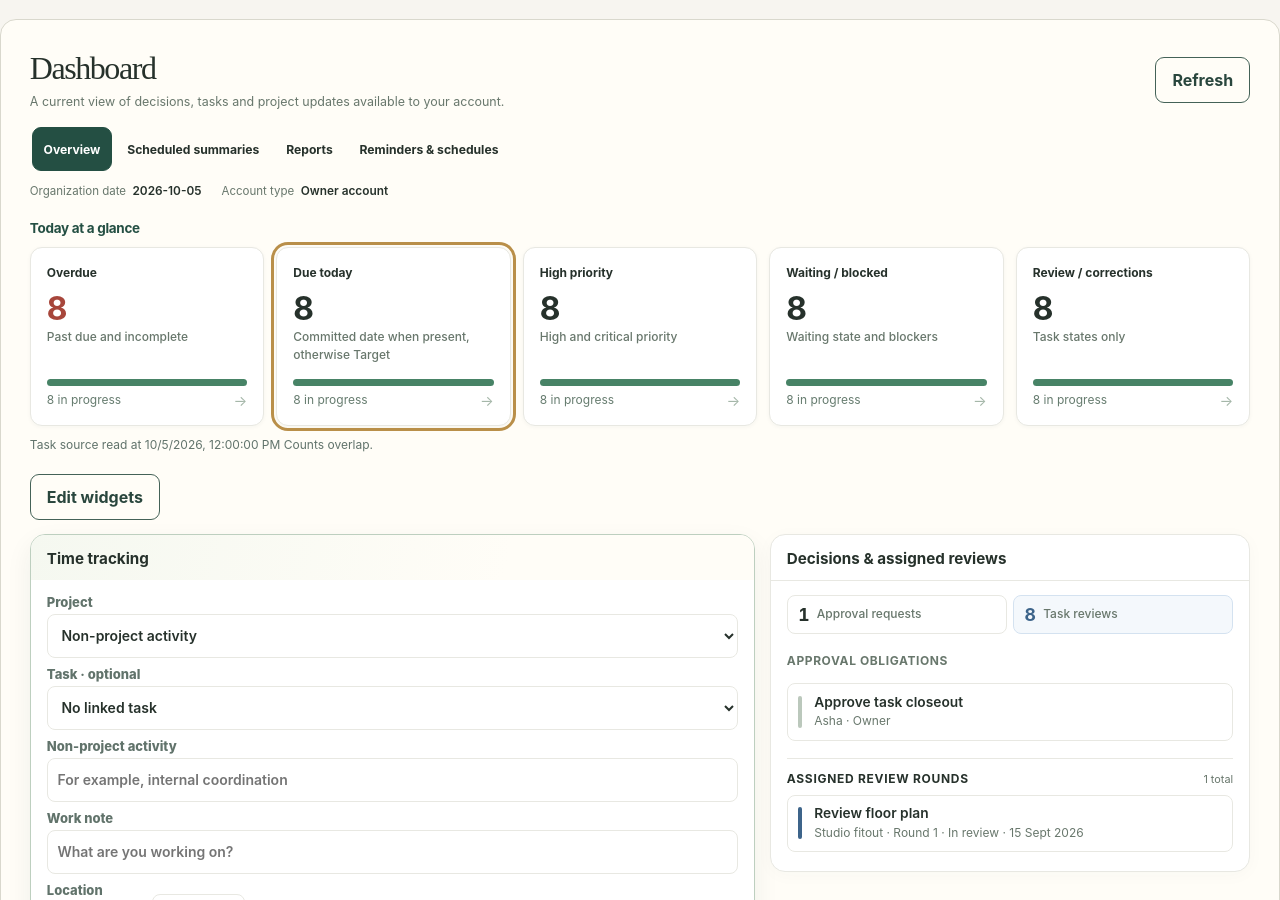
Test: DashboardWorkspace › opens every Due today source row in a contextual panel without navigating
Expected: the 2nd text "8" is shown, [293,289,313,328]
Click the button with aria-label "Due today · 8 matching tasks" at [394, 337], box [276,247,511,426]
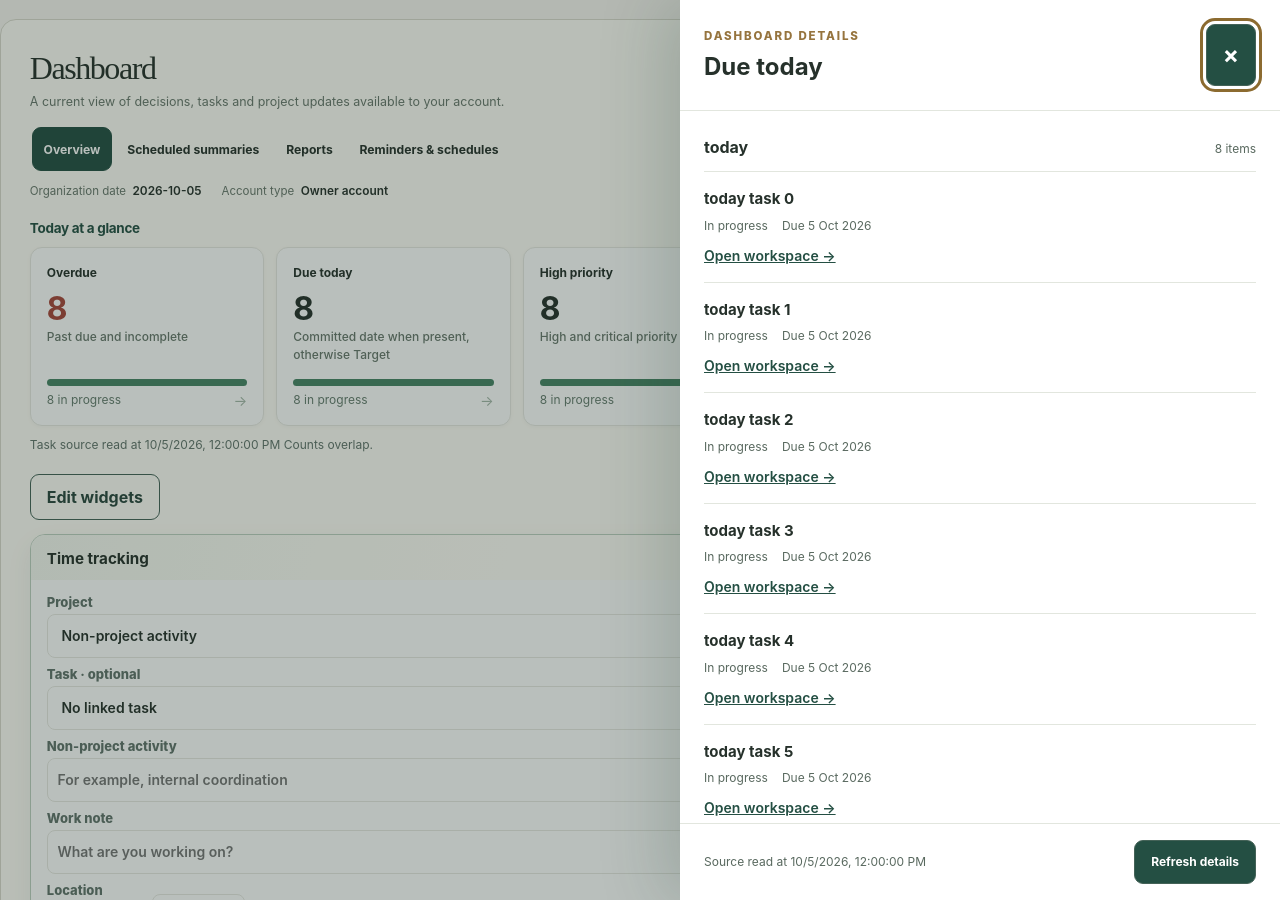
Click the button named "Close dashboard details" at [1231, 55], box [1206,24,1256,86]
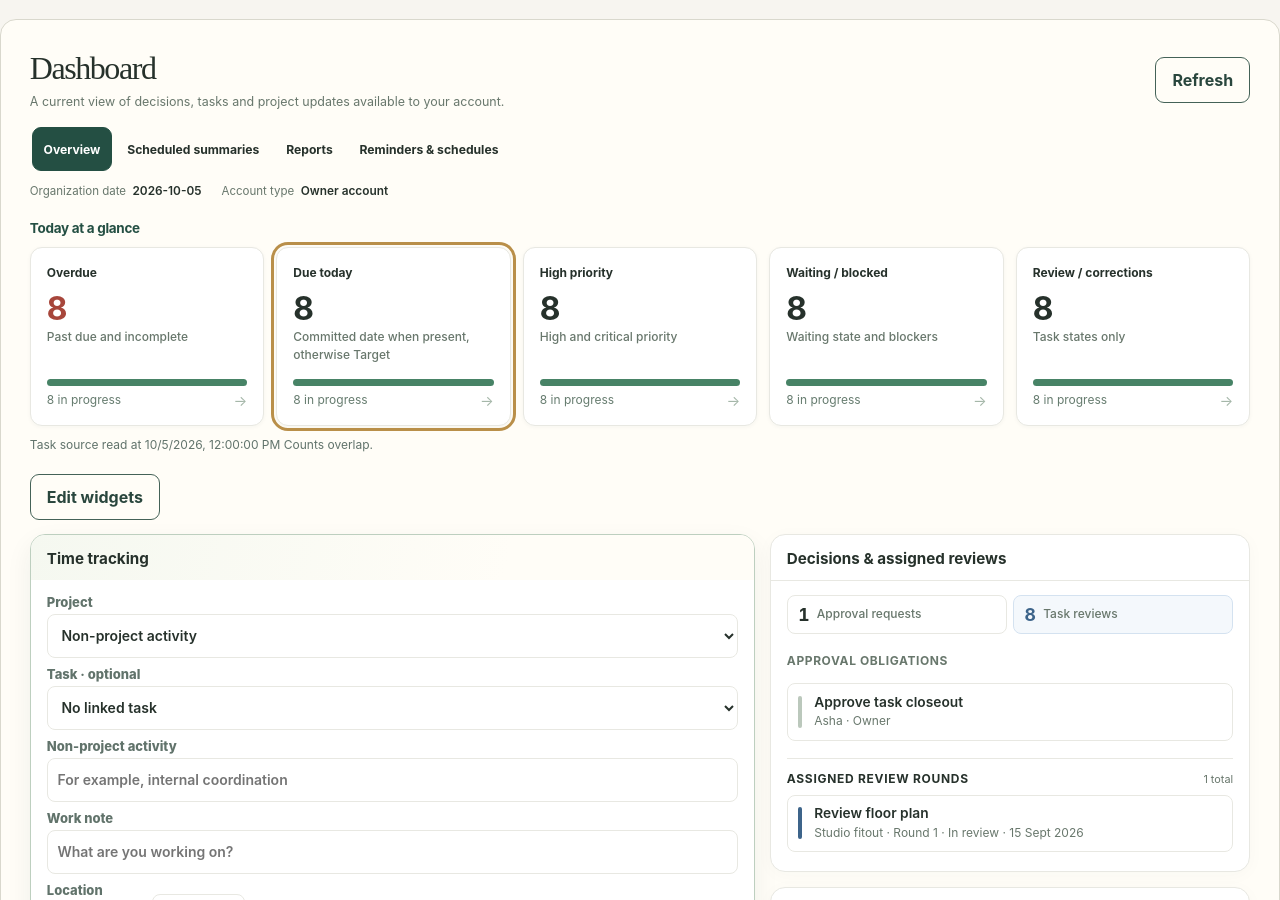
Expected: the heading "Dashboard" is shown, [30,50,156,86]
Now the dialog is gone
